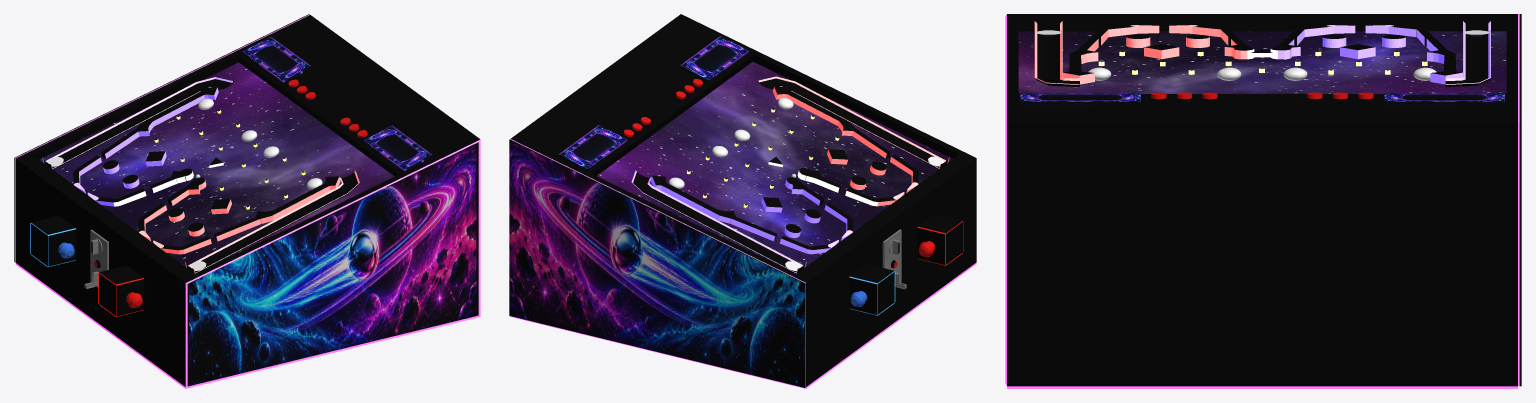
Rendered from 2PlayersMode.glb.
The picture shows the model from 3 angles, left to right: view 1: azimuth 30°, elevation 25°; view 2: azimuth 150°, elevation 25°; view 3: azimuth 270°, elevation 25°; orthographic projection. The views are drawn at different scales.
Visible parts, largest first — view 1: Cubo, BlackHoleLauncher, Cubo.024, Cubo.019, Cubo.008, Cubo.018, Cubo.005, Cubo.015, Cubo.025, Cubo.003; view 2: Cubo, BlackHoleLauncher, Cubo.019, Cubo.024, Cubo.018, Cubo.008, Cubo.015, Cubo.005, Cubo.025, Cubo.013; view 3: Cubo, BlackHoleLauncher, Cubo.008, Cubo.018, rombo, rombo.001.
Part boxes in pixels (x1=…): Cubo: x1=14, y1=14, x2=480, y2=388; BlackHoleLauncher: x1=42, y1=77, x2=359, y2=273; Cubo.024: x1=98, y1=265, x2=144, y2=316; Cubo.019: x1=30, y1=215, x2=76, y2=266; Cubo.008: x1=364, y1=125, x2=432, y2=170; Cubo.018: x1=242, y1=37, x2=311, y2=82; Cubo.005: x1=272, y1=183, x2=330, y2=220; Cubo.015: x1=144, y1=92, x2=204, y2=126; Cubo.025: x1=90, y1=229, x2=108, y2=287; Cubo.003: x1=214, y1=217, x2=261, y2=241; Cubo: x1=509, y1=14, x2=976, y2=388; BlackHoleLauncher: x1=631, y1=76, x2=949, y2=273; Cubo.019: x1=849, y1=264, x2=895, y2=315; Cubo.024: x1=917, y1=214, x2=963, y2=265; Cubo.018: x1=558, y1=125, x2=627, y2=170; Cubo.008: x1=679, y1=36, x2=748, y2=81; Cubo.015: x1=661, y1=183, x2=719, y2=219; Cubo.005: x1=786, y1=91, x2=847, y2=125; Cubo.025: x1=882, y1=229, x2=901, y2=282; Cubo.013: x1=730, y1=217, x2=777, y2=241; Cubo: x1=1005, y1=14, x2=1521, y2=388; BlackHoleLauncher: x1=1034, y1=21, x2=1490, y2=86; Cubo.008: x1=1020, y1=93, x2=1140, y2=106; Cubo.018: x1=1384, y1=93, x2=1504, y2=106; rombo: x1=1144, y1=44, x2=1179, y2=59; rombo.001: x1=1340, y1=44, x2=1375, y2=59.
Bounding box in the file's own units: 21.93 × 11.52 × 20.21.
18 materials, 4 textured.
